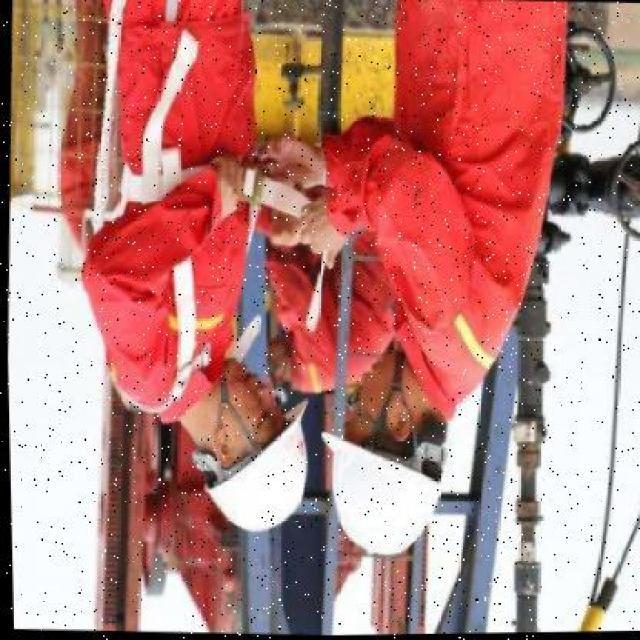helmet: (322, 434, 442, 562), (197, 420, 309, 538)
vest: (388, 58, 536, 410), (107, 136, 244, 419)
